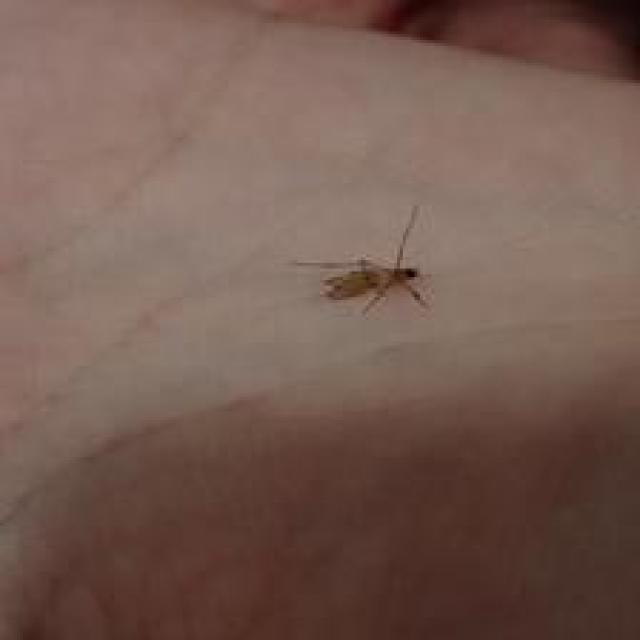Culex: (293, 203, 433, 317)
